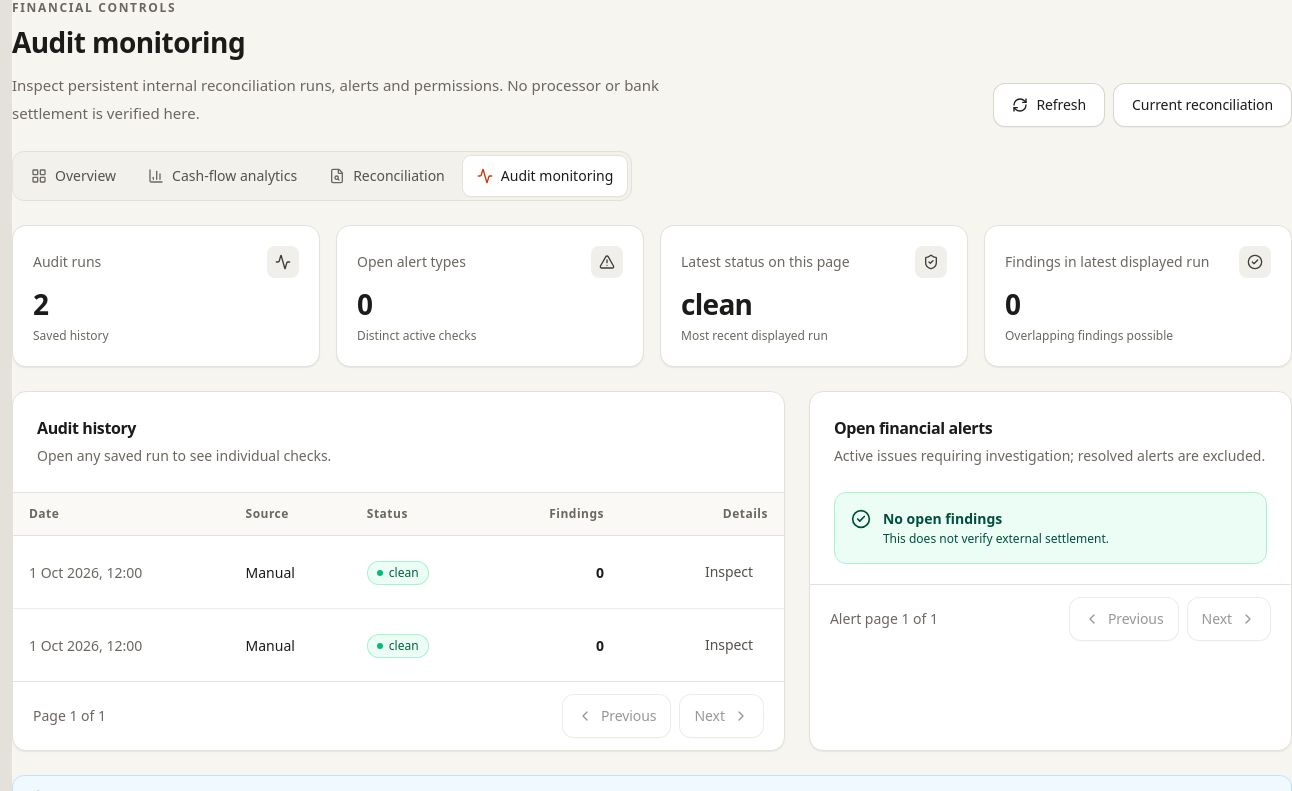
Test: financial audit detail inspection › finishes re-inspecting the same loaded audit with fresh details
Click the button with aria-label "Inspect audit 1".
click(729, 572)  # box [690,550,768,594]
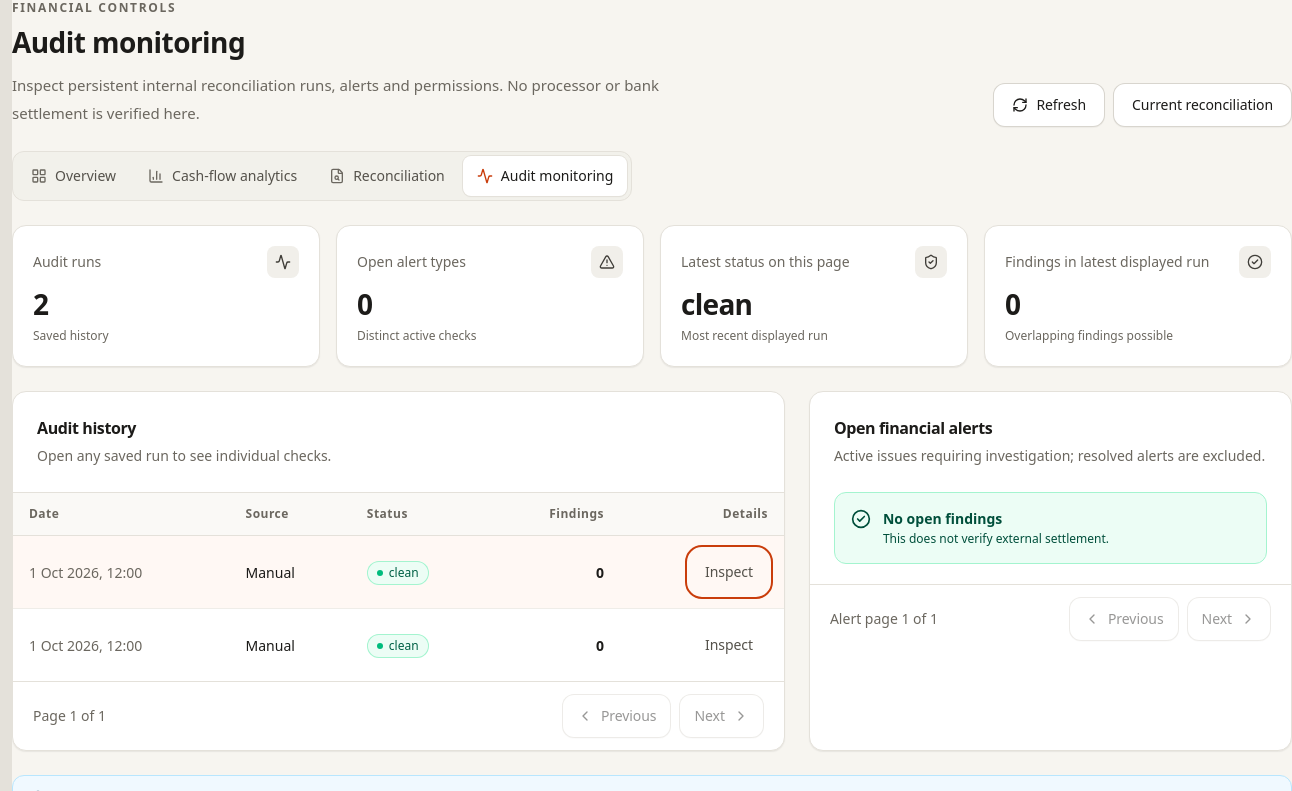
Click the button with aria-label "Inspect audit 1".
click(729, 572)  # box [690,550,768,594]
(page scrolled)
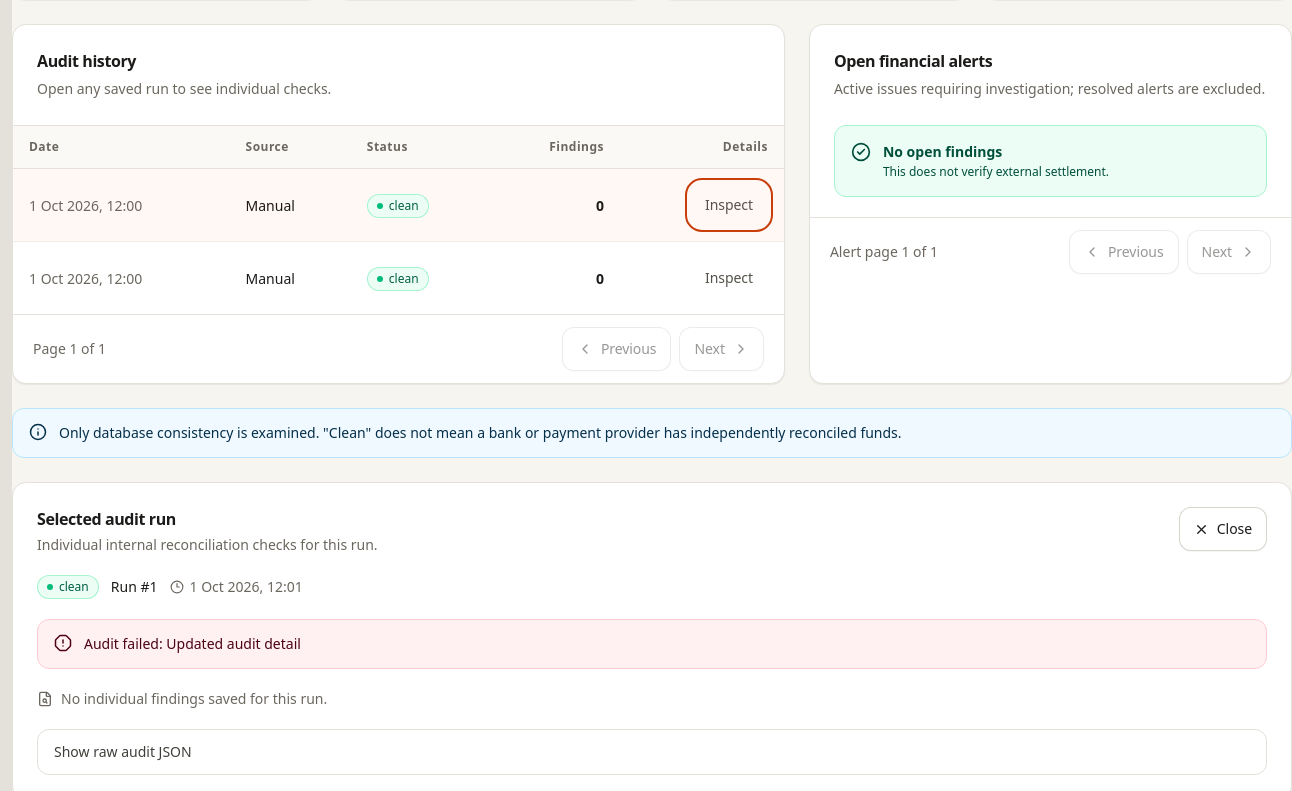
Check: the text "Audit failed: Updated audit detail" is shown, box [84,634,301,653]
